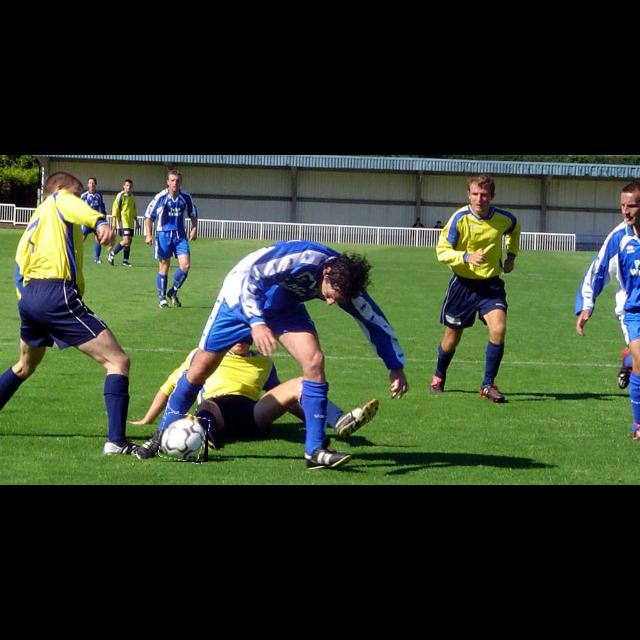Football: (160, 414, 208, 462)
